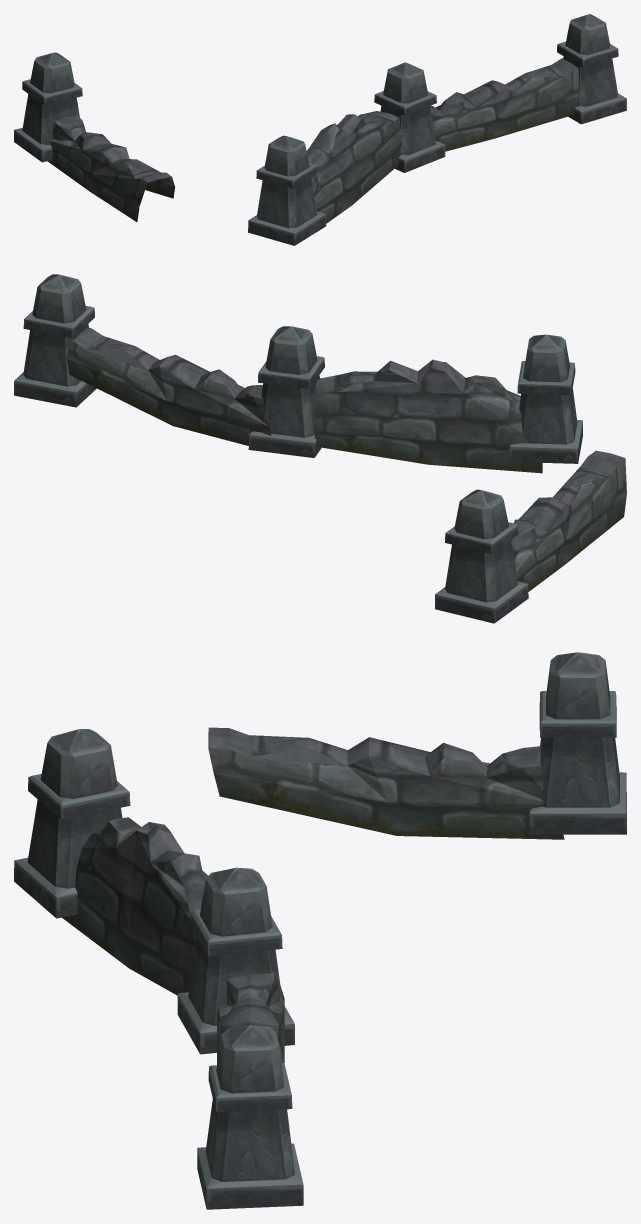
File: object_stonewalls.fbx
3 views of the same model, one above another, from view 1: azimuth 30°, elevation 25°; view 2: azimuth 150°, elevation 25°; view 3: azimuth 270°, elevation 25° (orthographic). The views are drawn at different scales.
Parts seen in each view (by area): view 1: obj1.027; view 2: obj1.027; view 3: obj1.027.
Boxes of the visible parts, x1=… form: obj1.027: x1=14, y1=14, x2=626, y2=245; obj1.027: x1=14, y1=274, x2=626, y2=623; obj1.027: x1=14, y1=652, x2=626, y2=1209.
Bounding box in the file's own units: 12.12 × 2.44 × 7.55.
